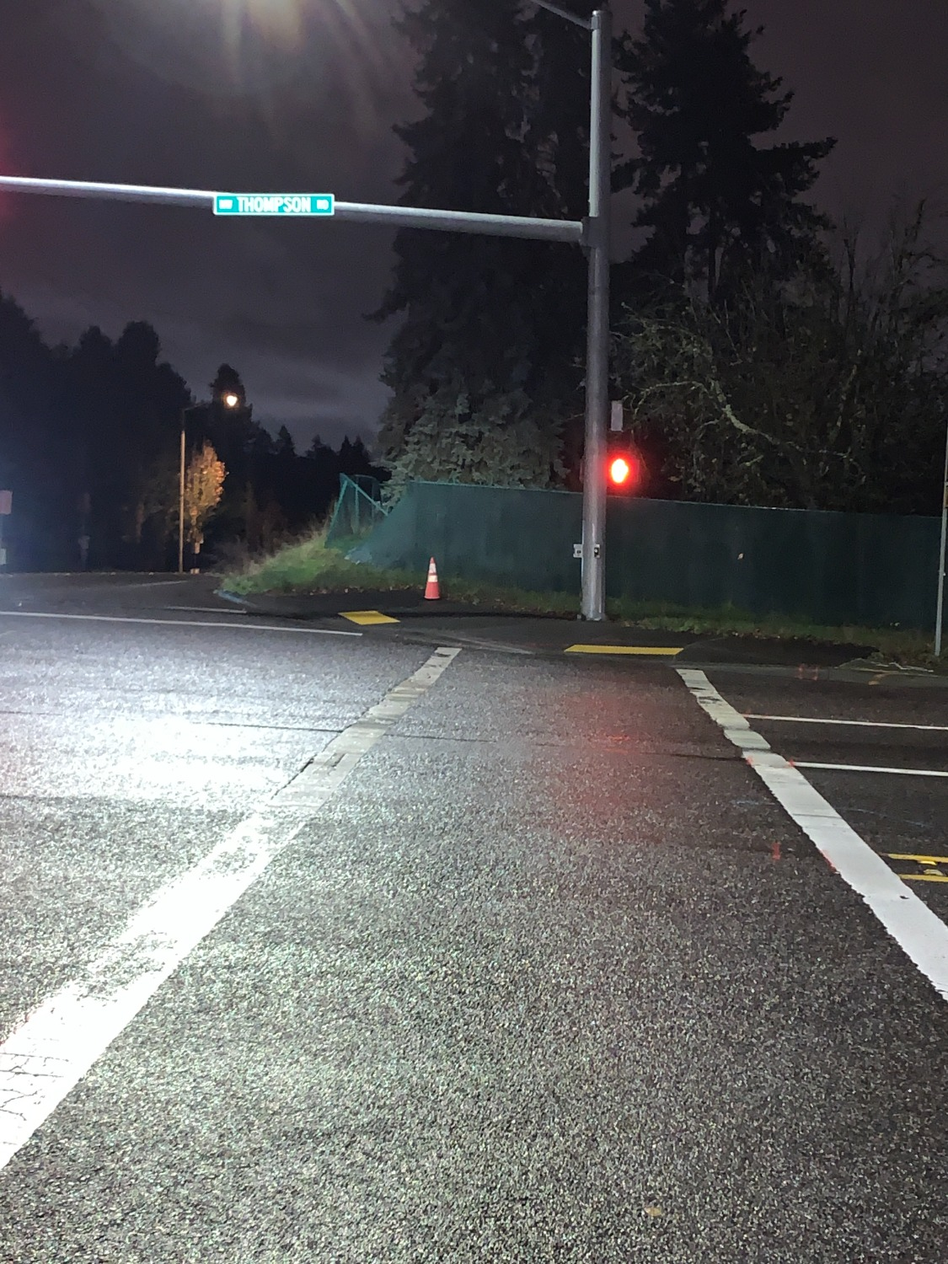crosswalk: (0, 636, 942, 1261)
pedestrian_stop: (601, 450, 639, 492)
pole: (582, 0, 611, 620)
vegetation: (613, 0, 947, 512), (367, 229, 585, 486), (394, 0, 587, 217)
